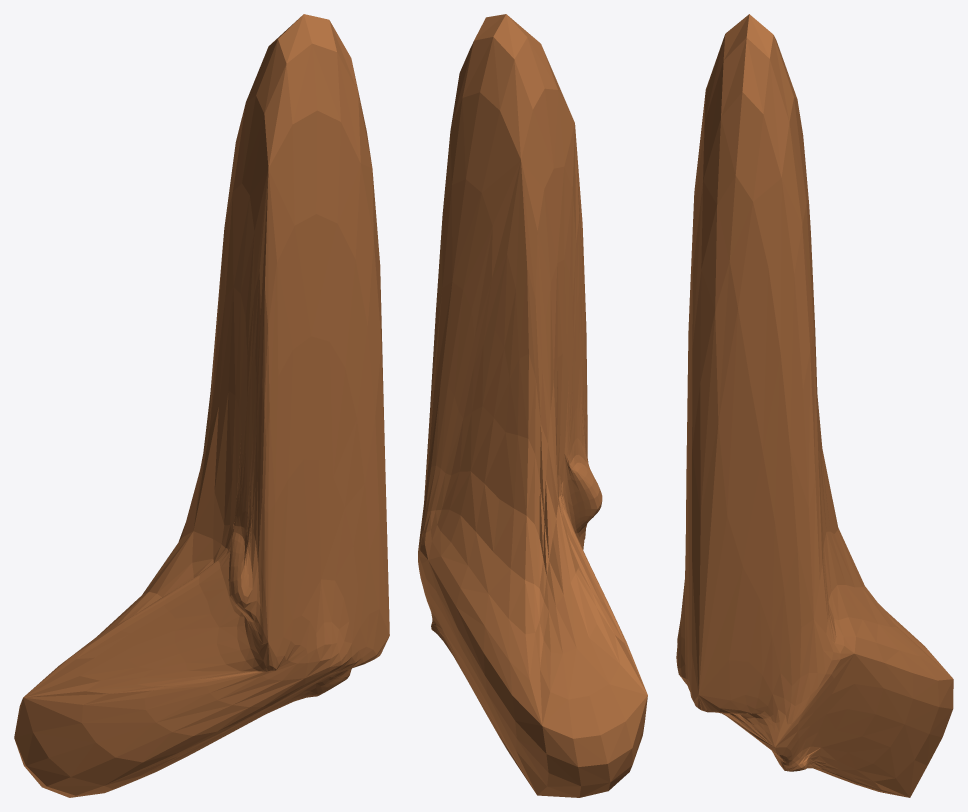
The picture shows the model from 3 angles, left to right: view 1: azimuth 30°, elevation 25°; view 2: azimuth 150°, elevation 25°; view 3: azimuth 270°, elevation 25°; orthographic projection. The views are drawn at different scales.
Parts seen in each view (by area): view 1: 438_Cube.1776; view 2: 438_Cube.1776; view 3: 438_Cube.1776.
Part boxes in pixels (<box>): 438_Cube.1776: <box>14,14,389,797</box>; 438_Cube.1776: <box>418,14,647,797</box>; 438_Cube.1776: <box>676,14,953,797</box>.
Bounding box in the file's own units: 5.64 × 14.35 × 4.29.
